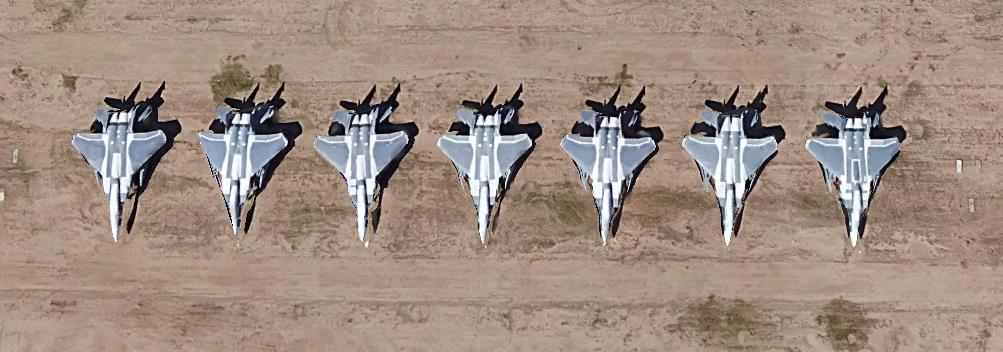F-15: (62, 91, 172, 244), (680, 94, 782, 251), (803, 98, 905, 251), (556, 97, 659, 248), (434, 93, 531, 245), (317, 92, 412, 245), (197, 94, 291, 241)
